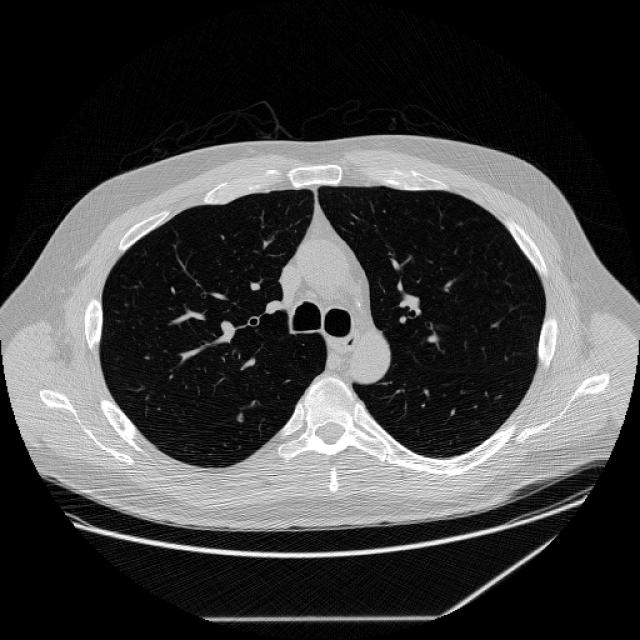nodule: (230, 409, 248, 426)
